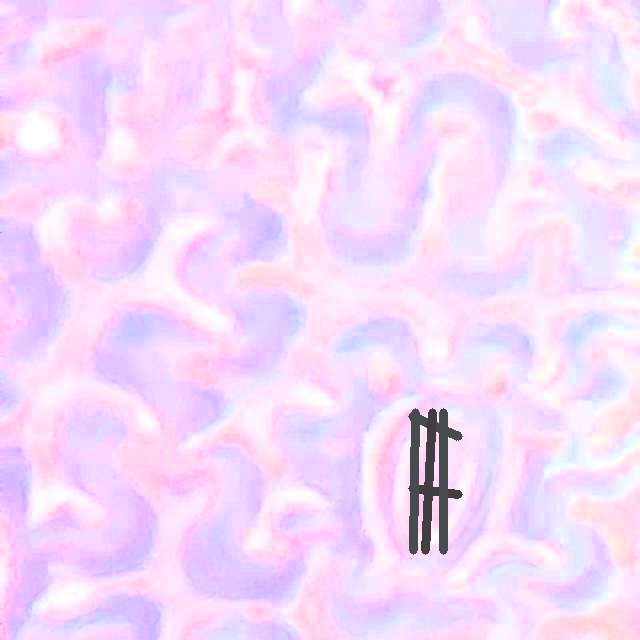close: (408, 409, 461, 554)
